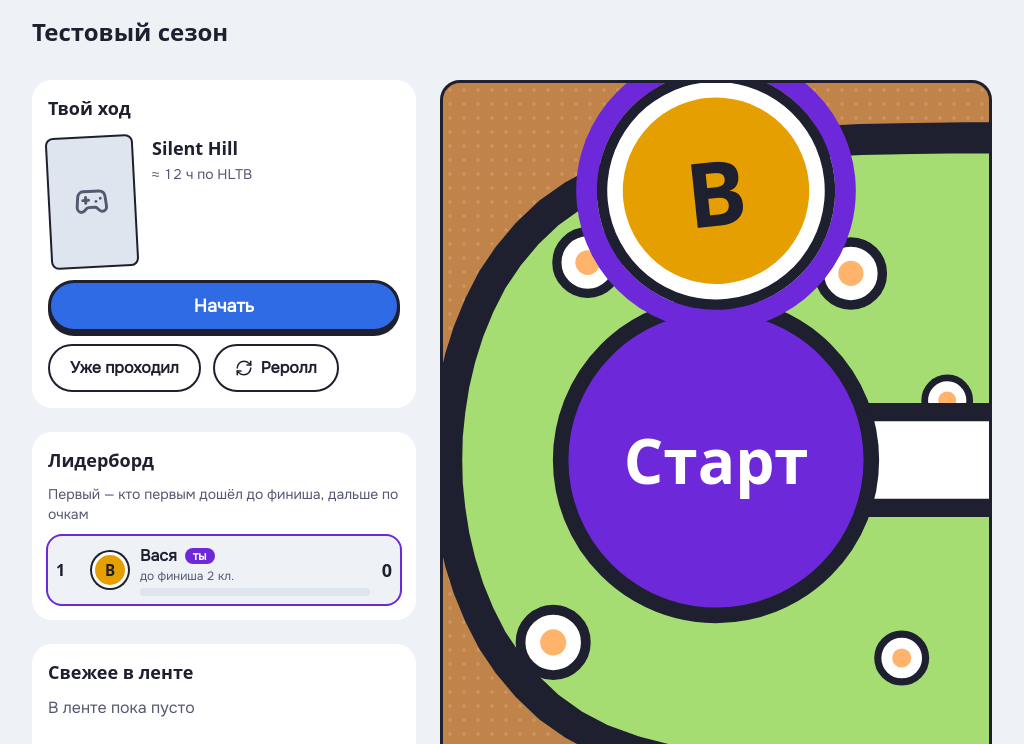
Scenario: SeasonScreen › explains a reroll refused for lack of coins in Russian
Click the button with test id "reroll": (276, 368) x1=213 y1=344 x2=339 y2=392
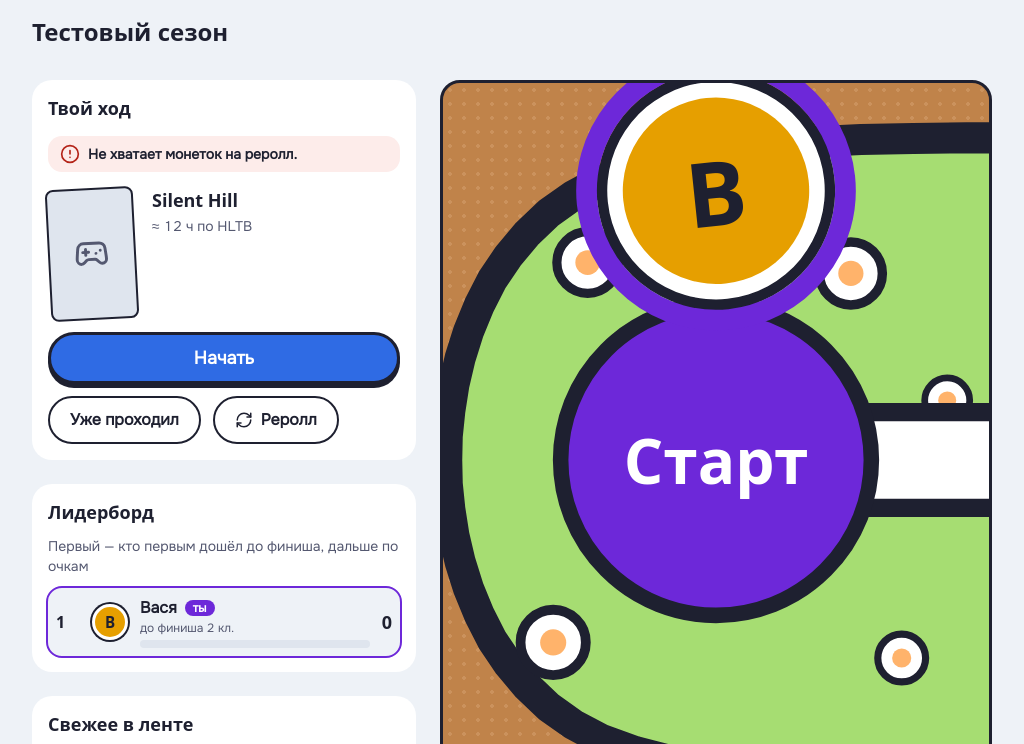
Now the message reads "Не хватает монеток на реролл.", box x1=88 y1=145 x2=297 y2=163
